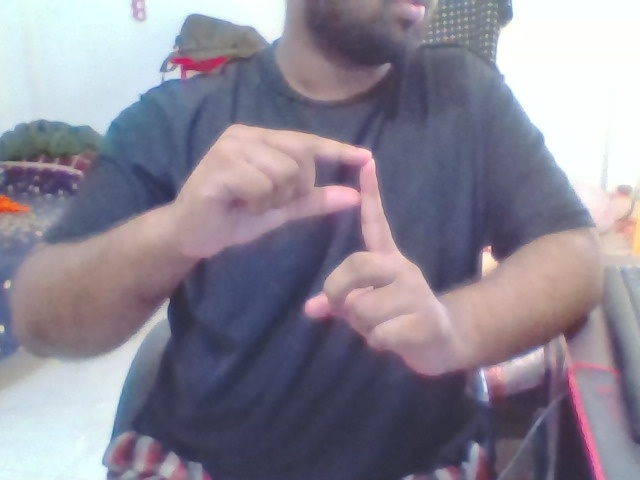P: (182, 104, 475, 378)
